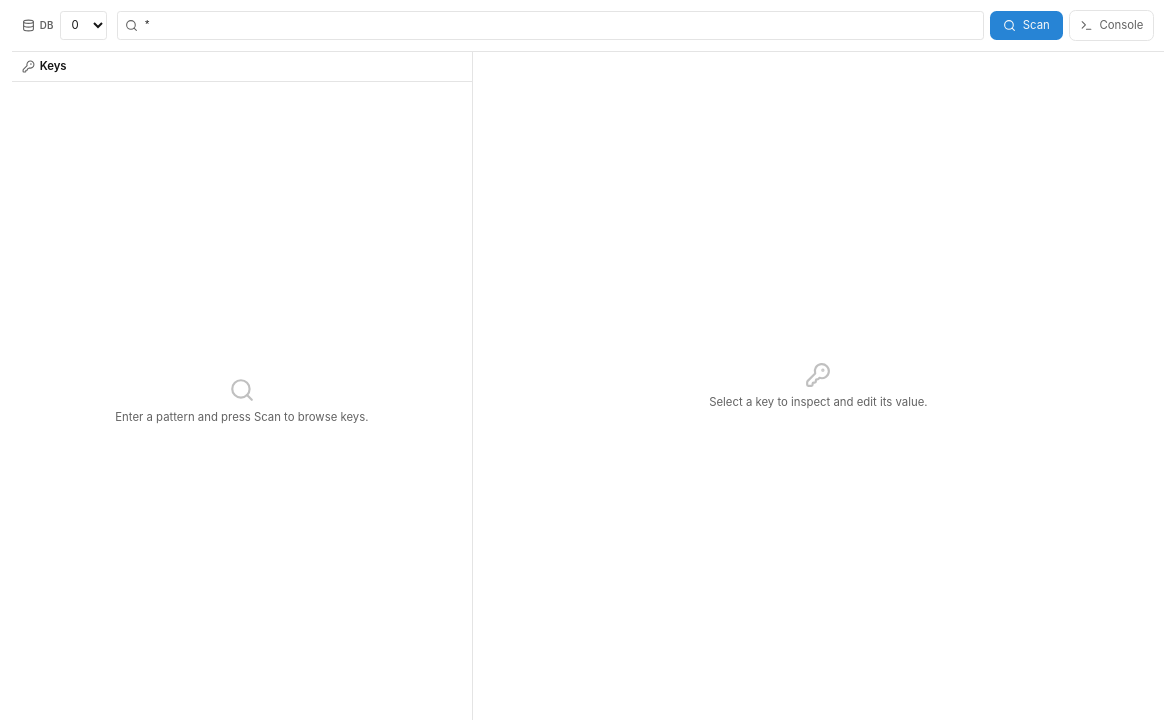
it: RedisKeyBrowser › loads a key's value via get when a key is selected and shows it in the editor
What coordinates should you click on to do the following:
click the button "Scan"
I would click on:
 (1027, 25)
Its box is [990,11,1063,40].
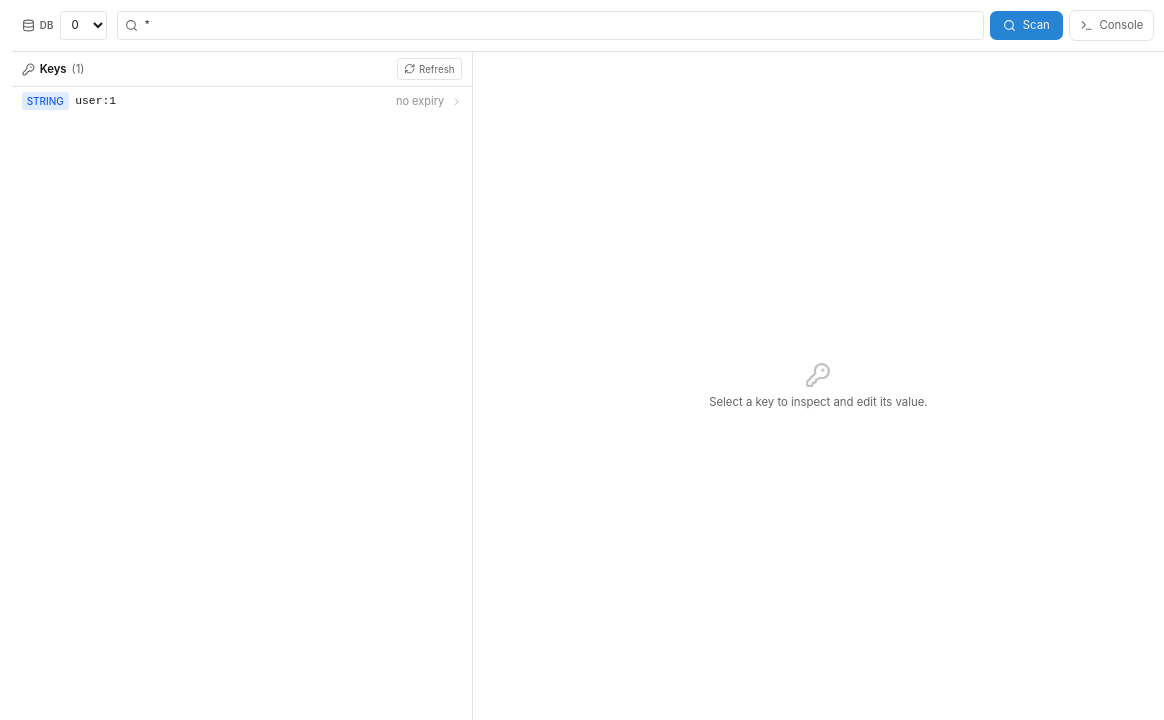
What coordinates should you click on to do the following:
click the text "user:1"
I would click on:
 (96, 101)
Its box is [75,95,116,107].
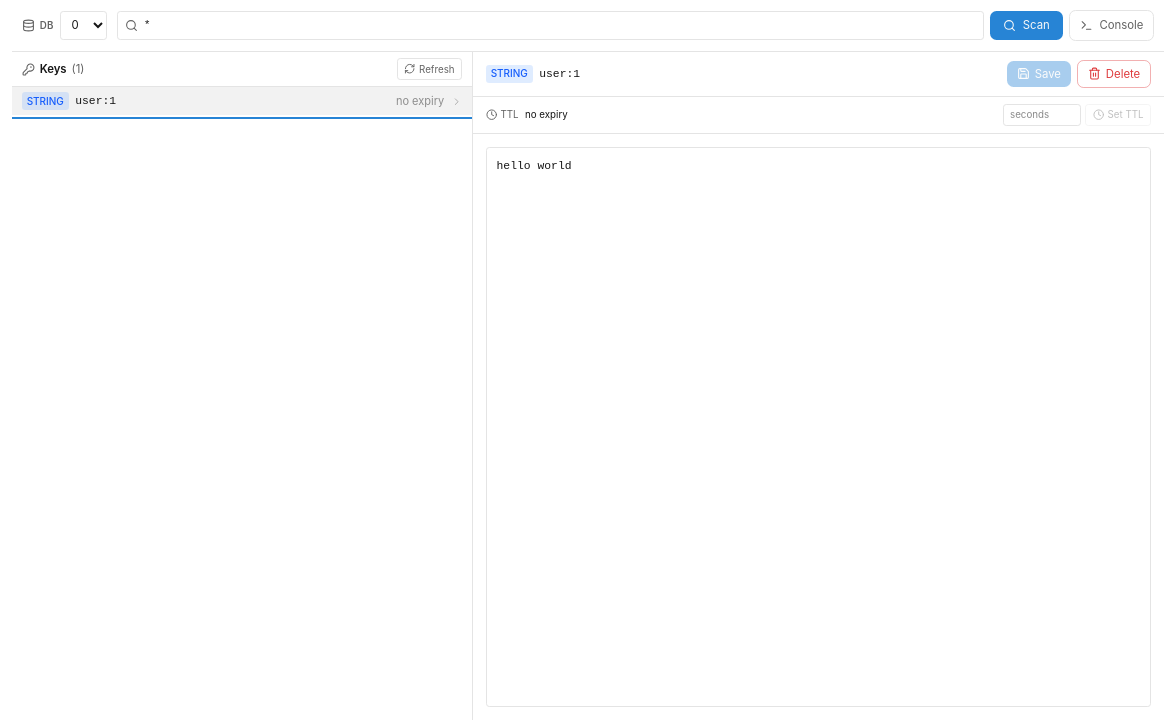
Check: the text box showing "hello world" is shown, box [486,147,1151,707]
